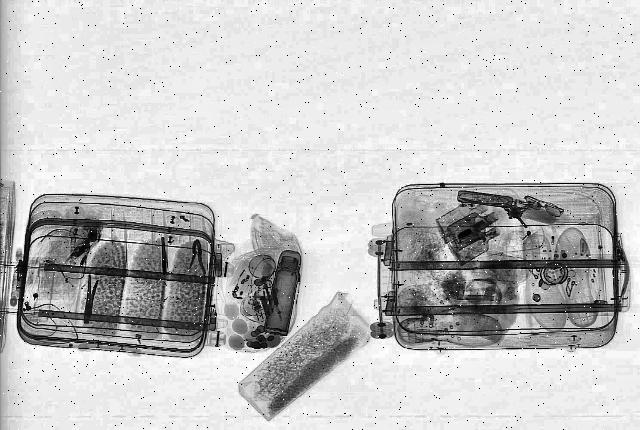Pliers: (188, 240, 205, 272)
